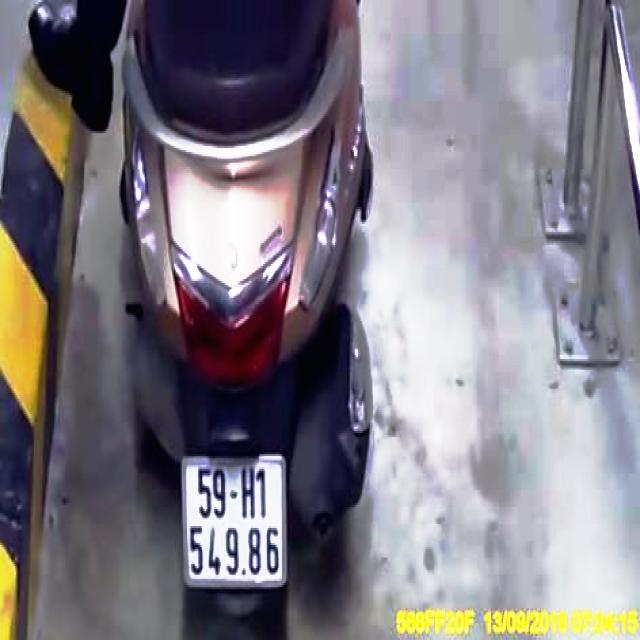license_plate: (186, 459, 286, 583)
